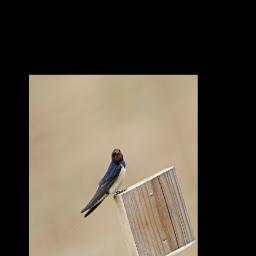Swallow: (52, 144, 137, 235)
